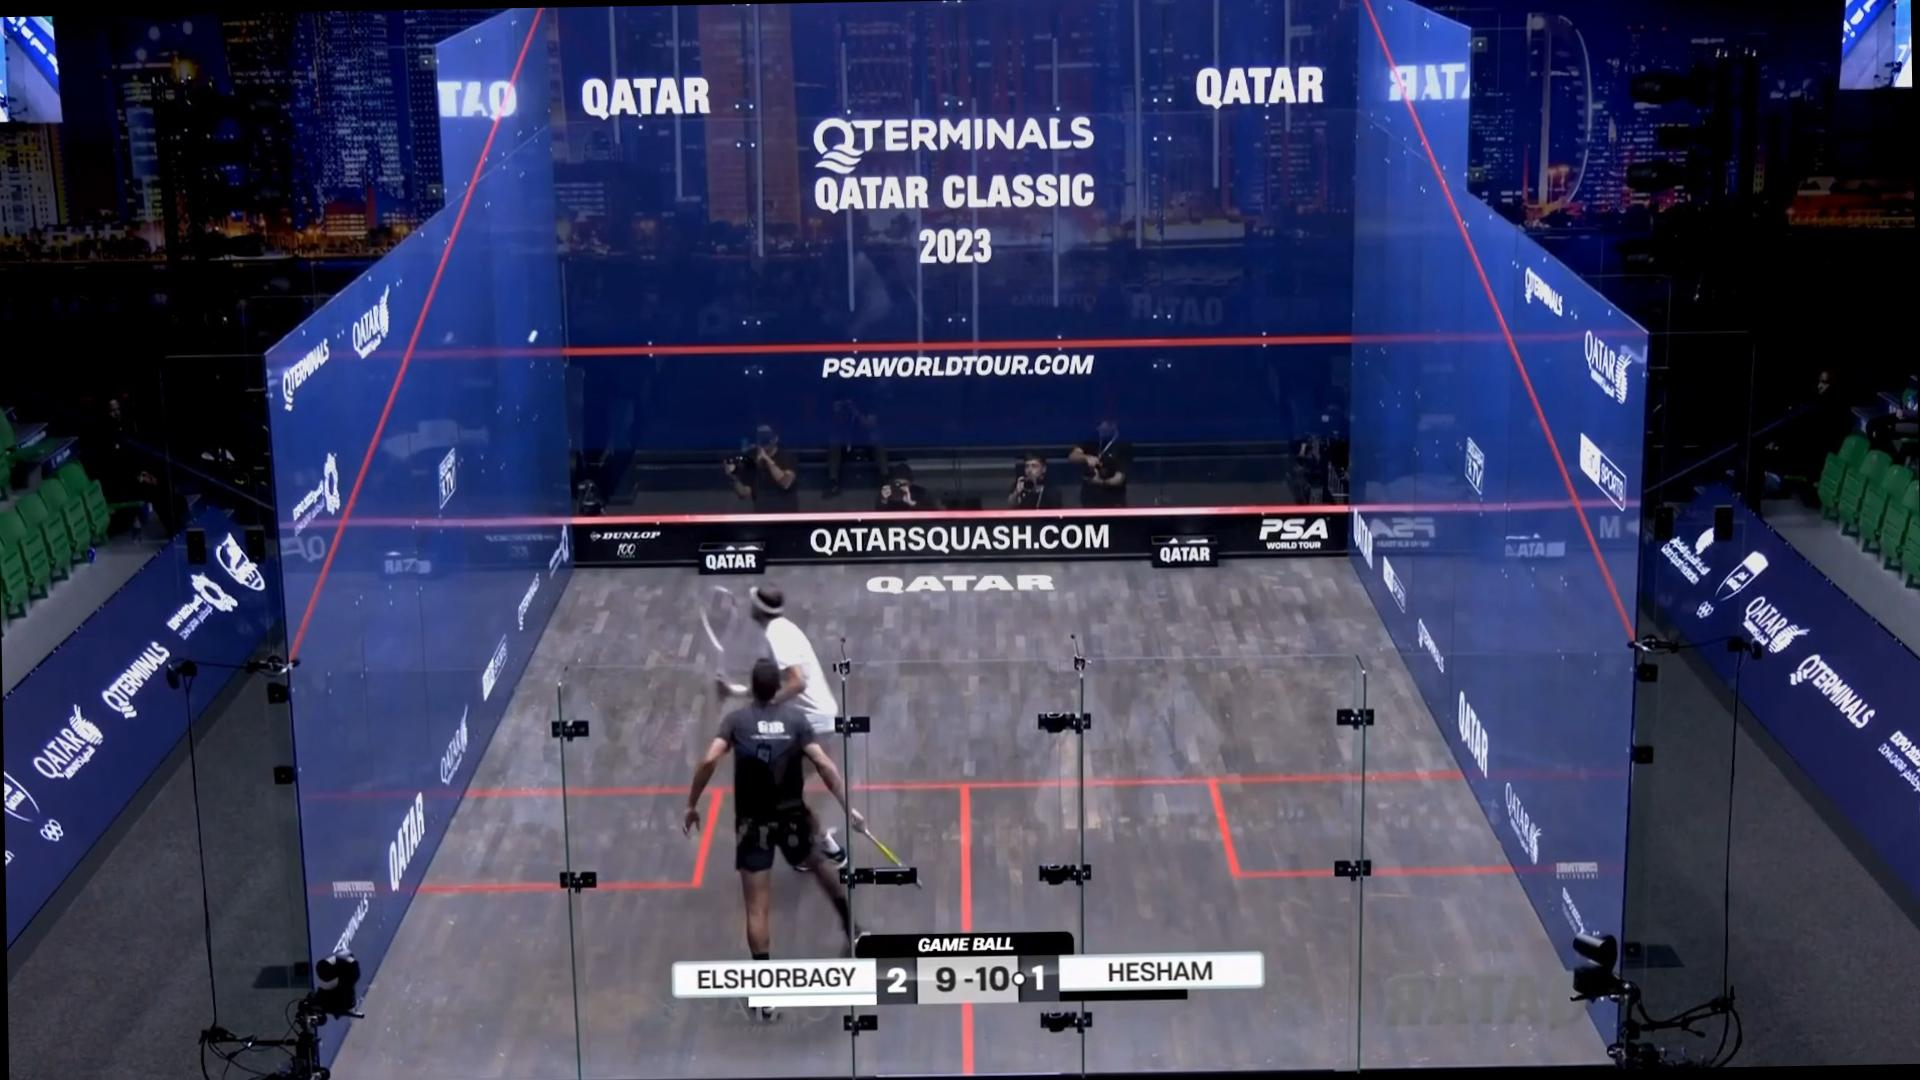Squash-Ball: (520, 314, 549, 363)
